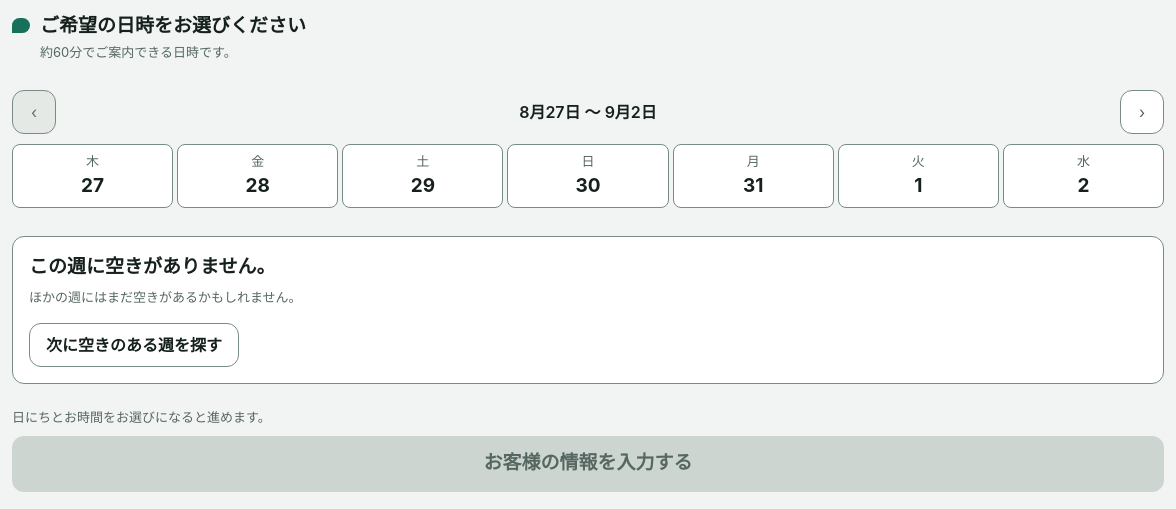
Test case: 日時を選ぶ › その週に空きが 1 つも無ければ、週の表は残したまま「この週に空きがありません。」と次に空きのある週へ跳ぶボタンを 1 つだけ出す
The width and height of the screenshot is (1176, 509).
Expected: the heading "この週に空きがありません。" is shown, left=29, top=255, right=275, bottom=278
Expected: the button named "8月27日（木）" is shown, left=12, top=144, right=173, bottom=208
Click the button "次に空きのある週を探す". click: [134, 345]
box: left=29, top=323, right=239, bottom=367
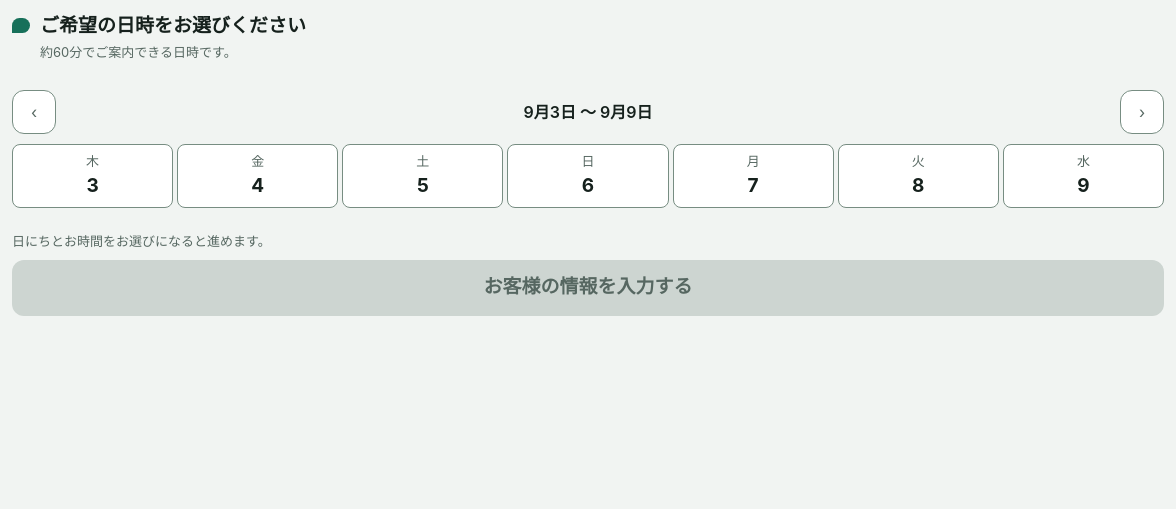
Expected: the text "9月3日 〜 9月9日" is shown, left=524, top=102, right=652, bottom=122
Expected: the heading "この週に空きがありません。" is gone
